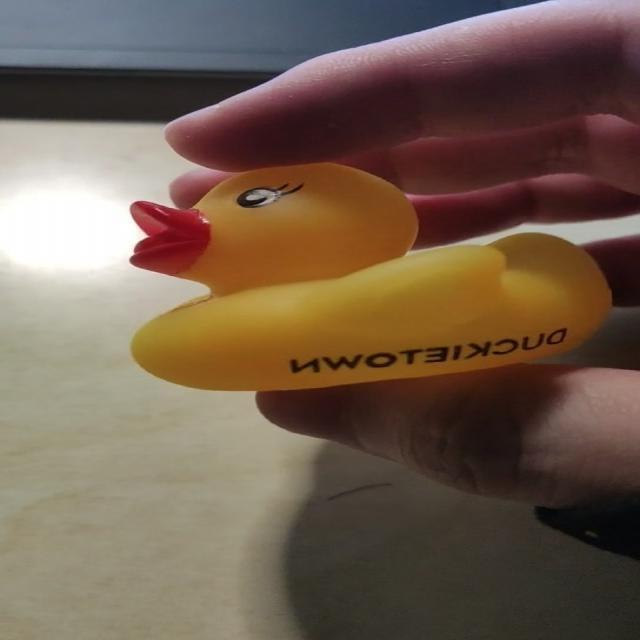rubber-duck: (130, 162, 609, 388)
